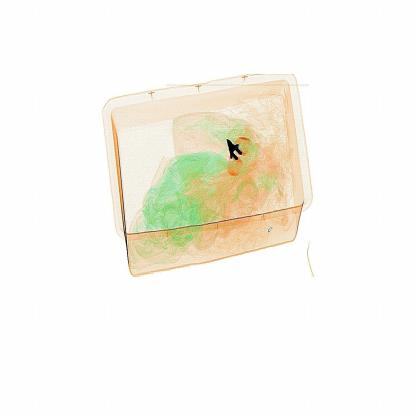gun: (215, 125, 261, 185)
